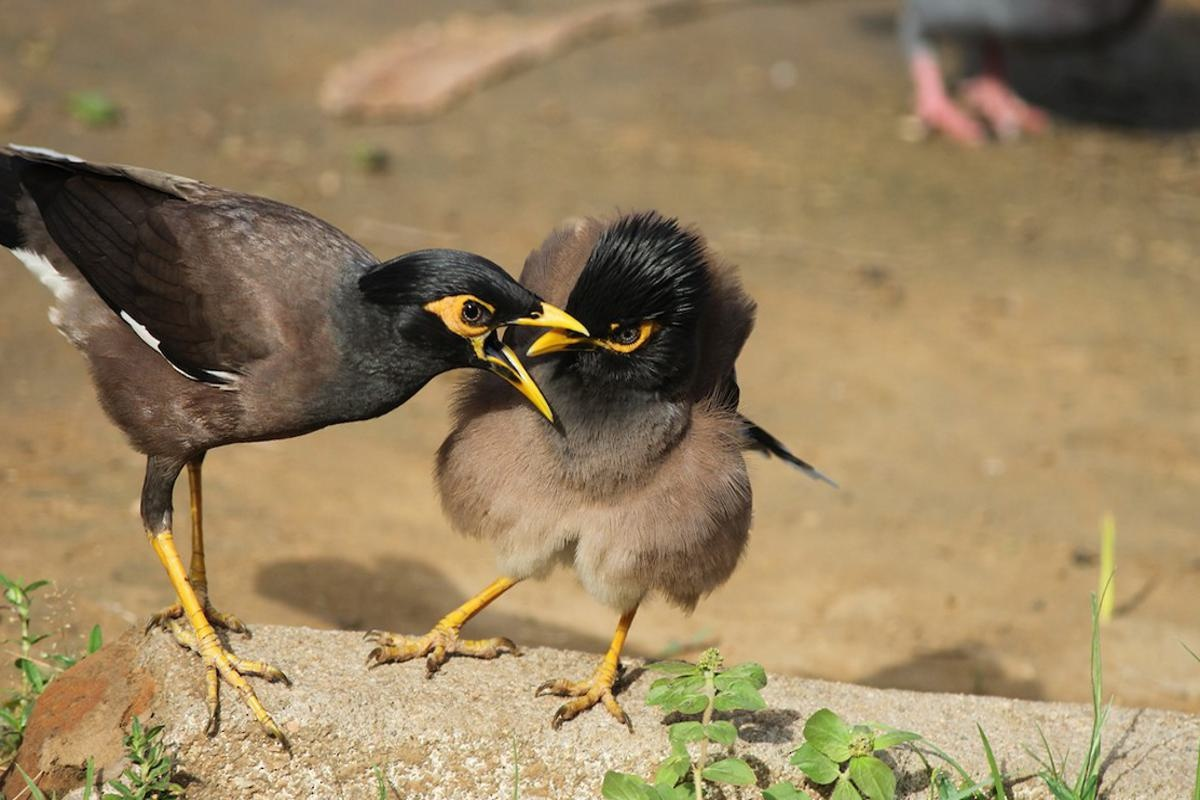myna: (21, 210, 584, 636), (490, 161, 739, 666)
